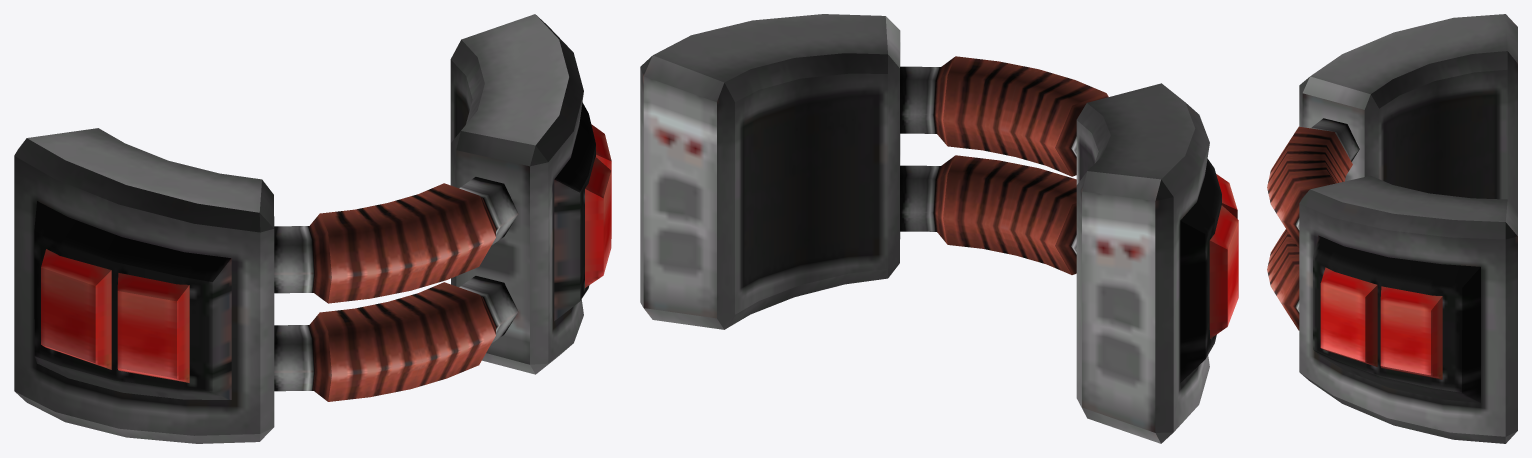
Rendered from metalgrabber.glb.
The picture shows the model from 3 angles, left to right: view 1: azimuth 30°, elevation 25°; view 2: azimuth 150°, elevation 25°; view 3: azimuth 270°, elevation 25°; orthographic projection. The views are drawn at different scales.
Parts seen in each view (by area): view 1: BoltGrabber; view 2: BoltGrabber; view 3: BoltGrabber.
Part boxes in pixels (left/top/right/bottom): BoltGrabber: left=14, top=14, right=611, bottom=443; BoltGrabber: left=640, top=14, right=1238, bottom=443; BoltGrabber: left=1267, top=14, right=1517, bottom=443.
Bounding box in the file's own units: 2.1 × 0.9484 × 0.9719.
Materials: 1 (1 with a texture image).
